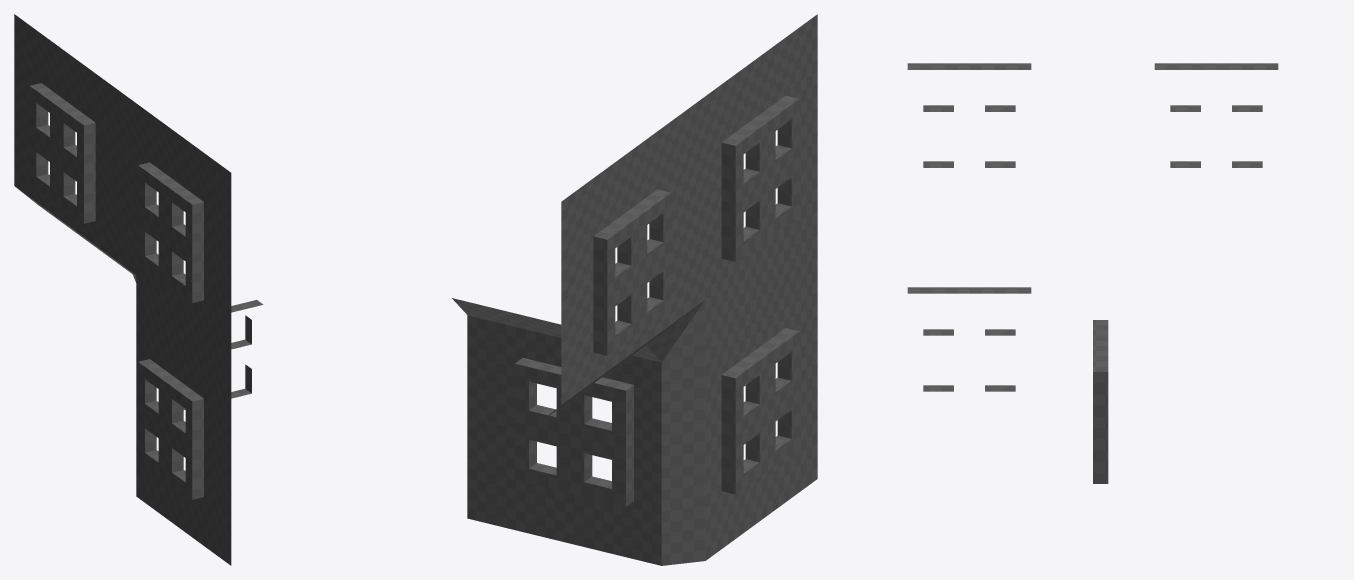
The picture shows the model from 3 angles, left to right: view 1: azimuth 30°, elevation 25°; view 2: azimuth 150°, elevation 25°; view 3: azimuth 270°, elevation 25°; orthographic projection. The views are drawn at different scales.
Visible parts, largest first — view 1: CubeDownBackLeftV4; view 2: CubeDownBackLeftV4; view 3: CubeDownBackLeftV4.
Part boxes in pixels (bbox=[...]): CubeDownBackLeftV4: bbox=[14, 14, 263, 565]; CubeDownBackLeftV4: bbox=[452, 14, 817, 565]; CubeDownBackLeftV4: bbox=[907, 63, 1278, 483].
Bounding box in the file's own units: 2.12 × 4 × 4.
Materials: 1 (1 with a texture image).
